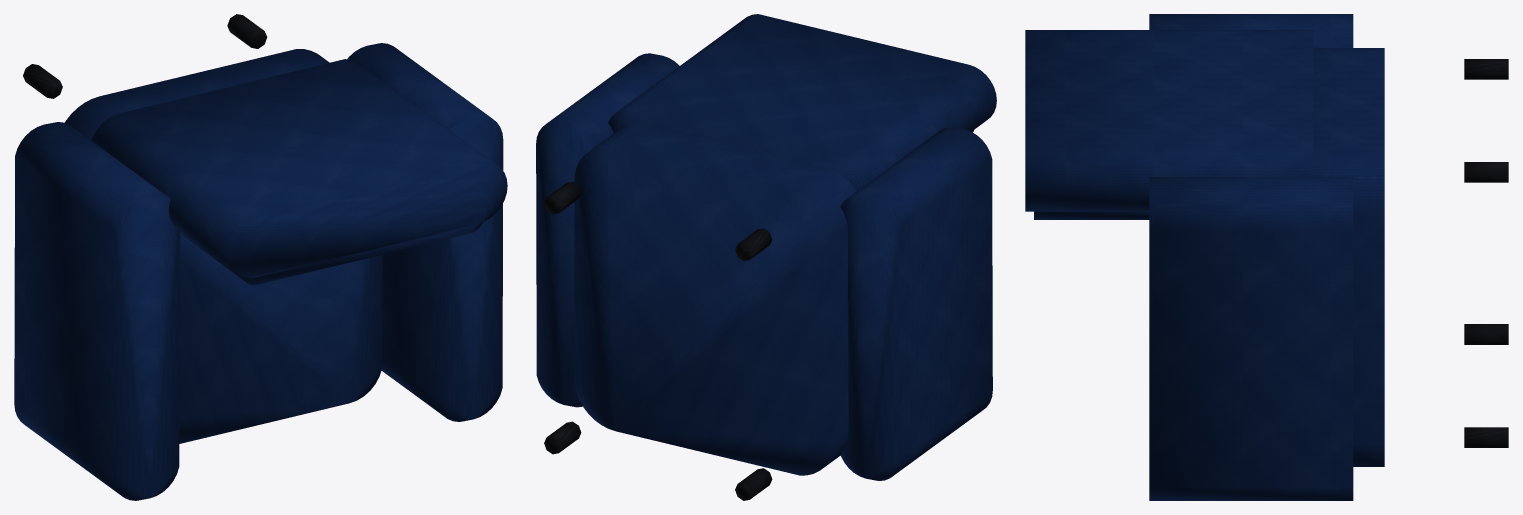
Rendered from LOUNGE_CHAIR_ROUND_001.glb.
3 renders of one model, left to right at view 1: azimuth 30°, elevation 25°; view 2: azimuth 150°, elevation 25°; view 3: azimuth 270°, elevation 25°, orthographic. The views are drawn at different scales.
Parts seen in each view (by area): view 1: sofa_back_001, sofa_arm_002, seat_cushion_004, sofa_arm_003, sofa_base_000, back_pillow_005, short_leg_007, short_leg_009; view 2: sofa_base_000, sofa_arm_002, sofa_back_001, sofa_arm_003, short_leg_008, short_leg_009, short_leg_007, short_leg_006; view 3: sofa_arm_003, sofa_back_001, sofa_base_000, sofa_arm_002, back_pillow_005, short_leg_006, short_leg_007, short_leg_008, short_leg_009.
Part boxes in pixels (x1,y1,x2,y2): sofa_back_001: (91,59,507,278); sofa_arm_002: (14,122,179,500); seat_cushion_004: (179,234,382,443); sofa_arm_003: (347,43,503,421); sofa_base_000: (65,49,329,140); back_pillow_005: (180,222,482,285); short_leg_007: (23,64,62,98); short_leg_009: (227,14,267,48); sofa_base_000: (574,123,856,475); sofa_arm_002: (840,127,992,480); sofa_back_001: (608,14,996,190); sofa_arm_003: (536,53,679,407); short_leg_008: (544,421,581,454); short_leg_009: (544,181,581,214); short_leg_007: (735,228,772,260); short_leg_006: (735,468,772,500); sofa_arm_003: (1149,177,1353,500); sofa_back_001: (1025,30,1313,211); sofa_base_000: (1313,48,1384,466); sofa_arm_002: (1149,14,1353,47); back_pillow_005: (1034,211,1149,219); short_leg_006: (1464,324,1508,344); short_leg_007: (1464,59,1508,79); short_leg_008: (1464,427,1508,447); short_leg_009: (1464,162,1508,182).
Size of the model in its own units: 1.05 by 0.82 by 1.09.
Materials: 2 (2 with a texture image).
